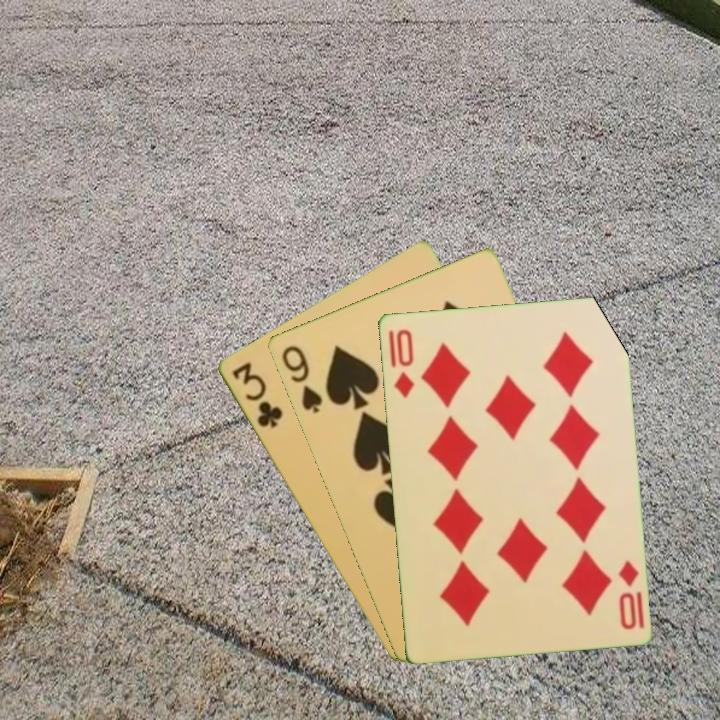10d: (614, 556, 647, 632), (384, 325, 417, 400)
3c: (227, 358, 285, 431)
9s: (277, 341, 325, 416)
